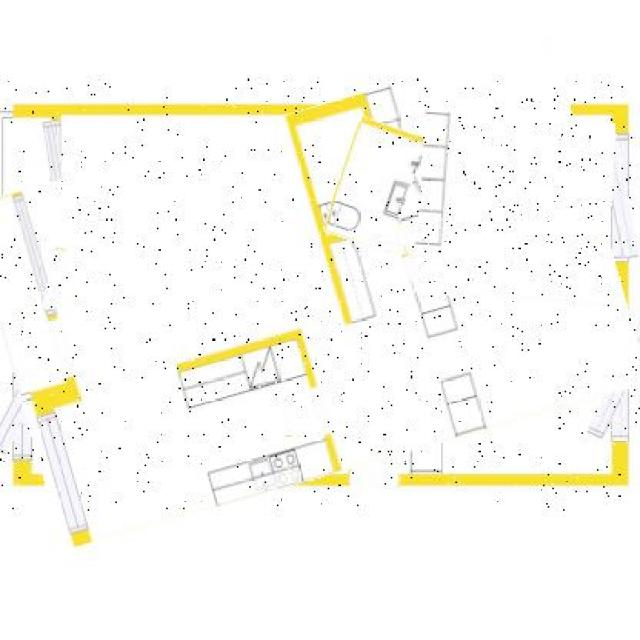door: (46, 248, 65, 309), (404, 251, 424, 298), (348, 472, 400, 486), (285, 388, 292, 437), (377, 242, 408, 252)
window: (598, 314, 640, 440), (0, 340, 45, 457), (604, 134, 634, 258), (46, 120, 66, 242)
zone: (0, 78, 628, 511), (417, 114, 614, 301), (332, 121, 418, 248)
